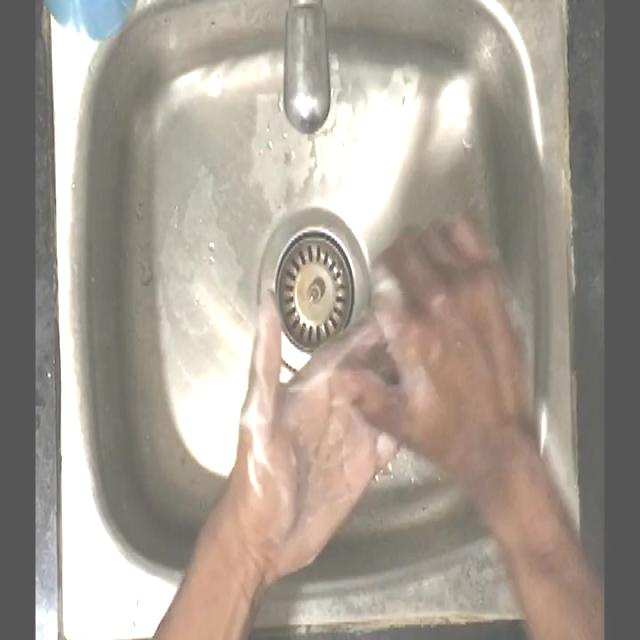step_5: (231, 198, 538, 590)
